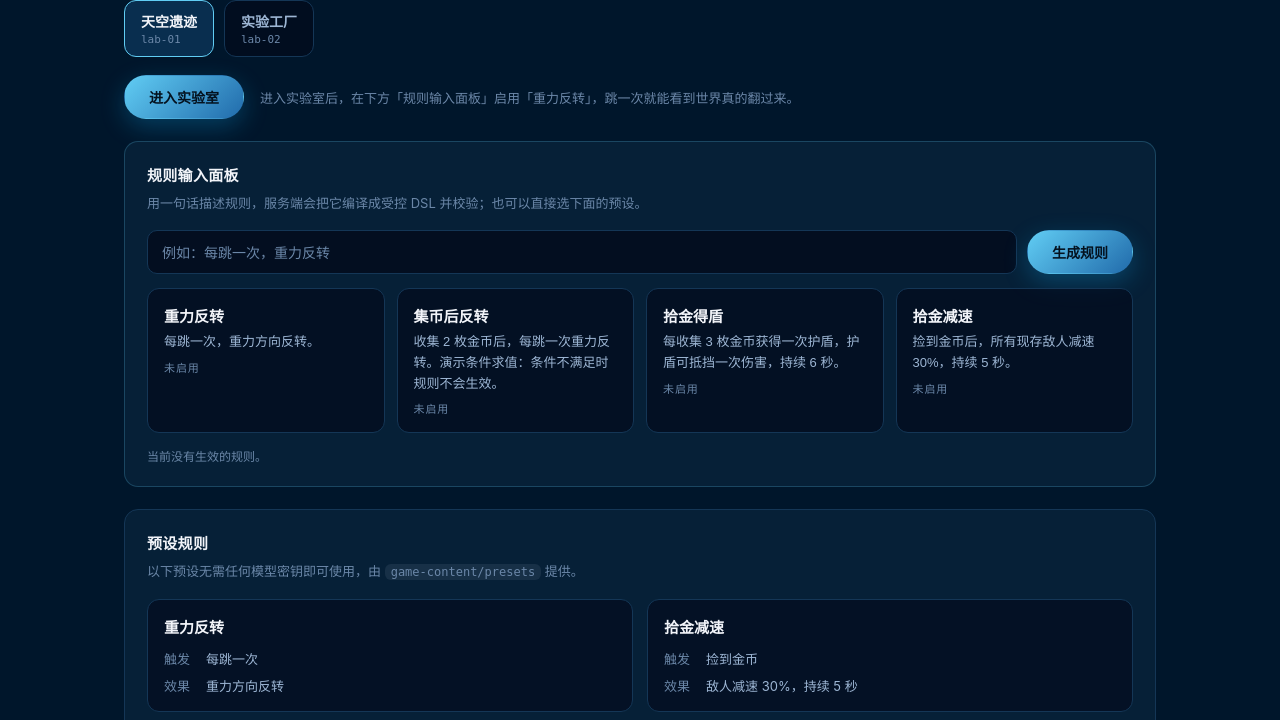
Scenario: App › does not claim a rule is active before the lab is running
(page scrolled)
Click the button "重力反转 每跳一次，重力方向反转。 未启用" at (266, 361), box [147,288,384,433]
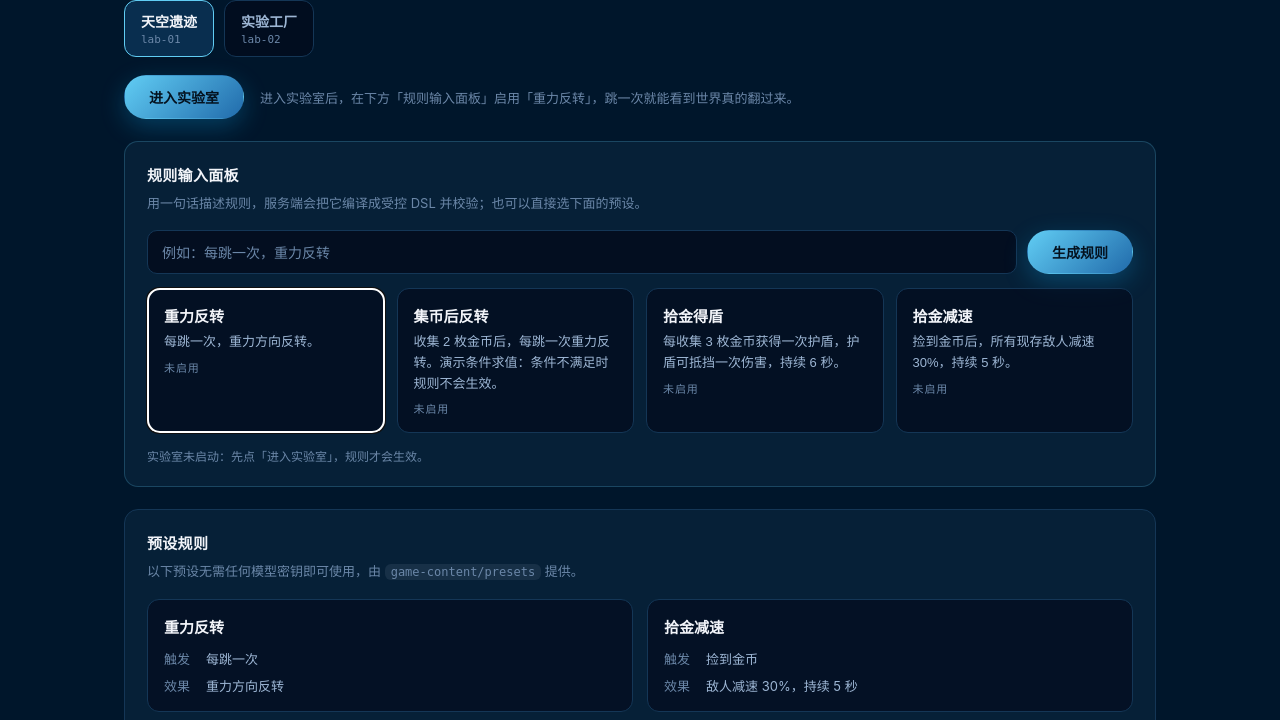
Result: the text with test id "rule-status" shows "实验室未启动" at [147,449,429,464]
